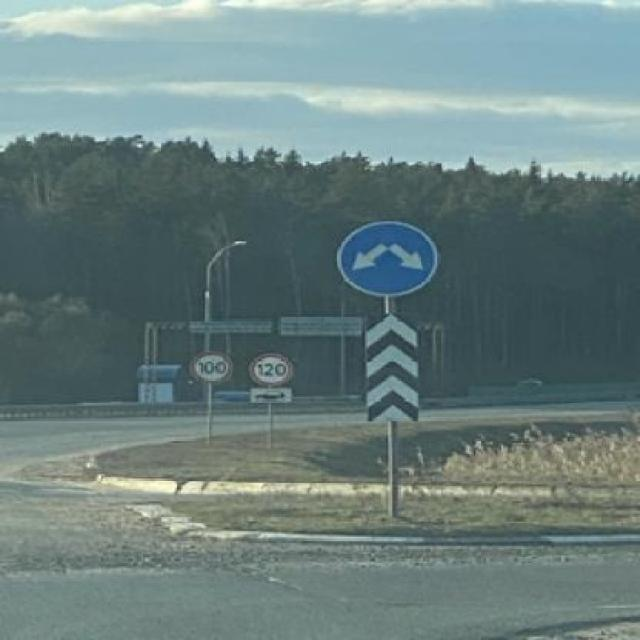forb_speed_over_100: (196, 351, 232, 383)
forb_speed_over_120: (249, 354, 294, 386)
